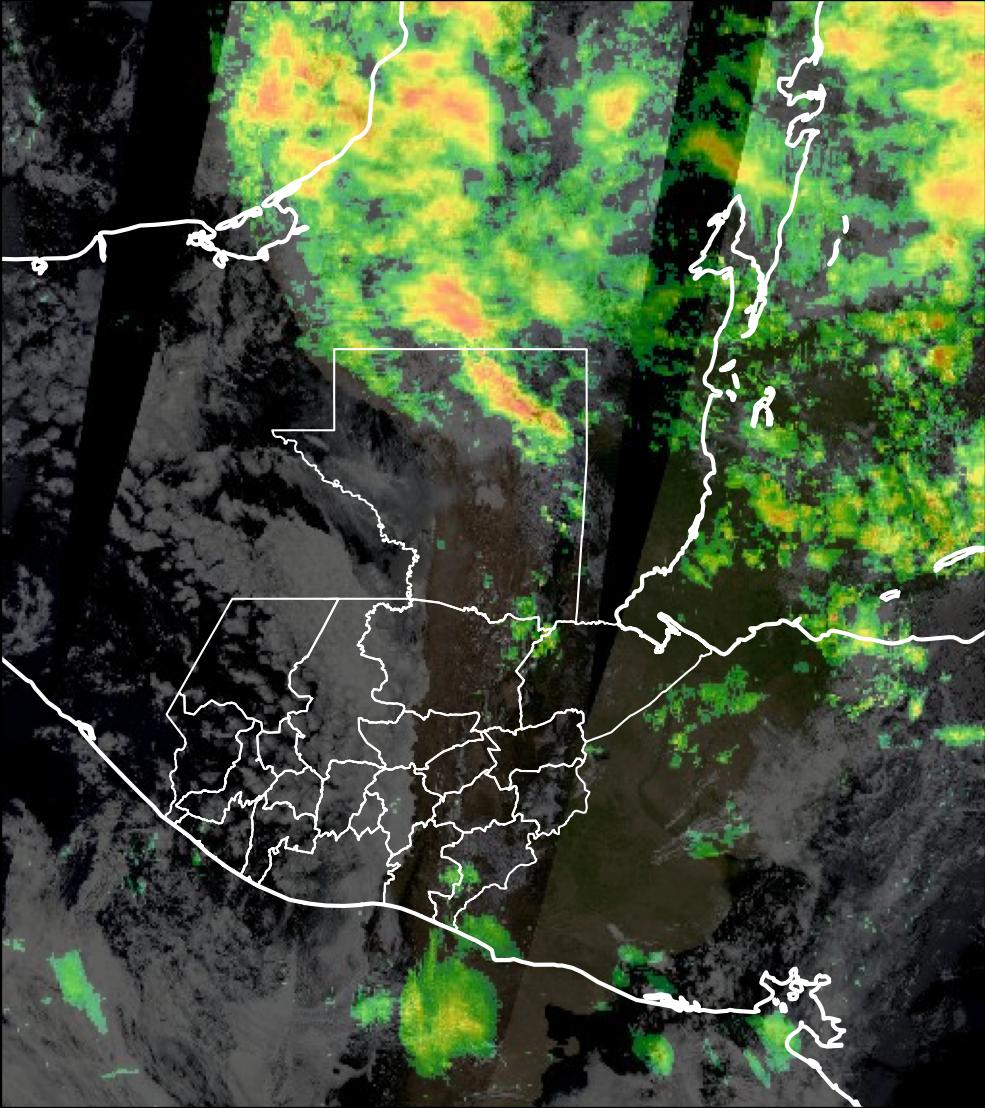precipitacion: (463, 358, 584, 457), (389, 76, 497, 160), (403, 268, 488, 336), (223, 68, 324, 125), (913, 163, 985, 235)
